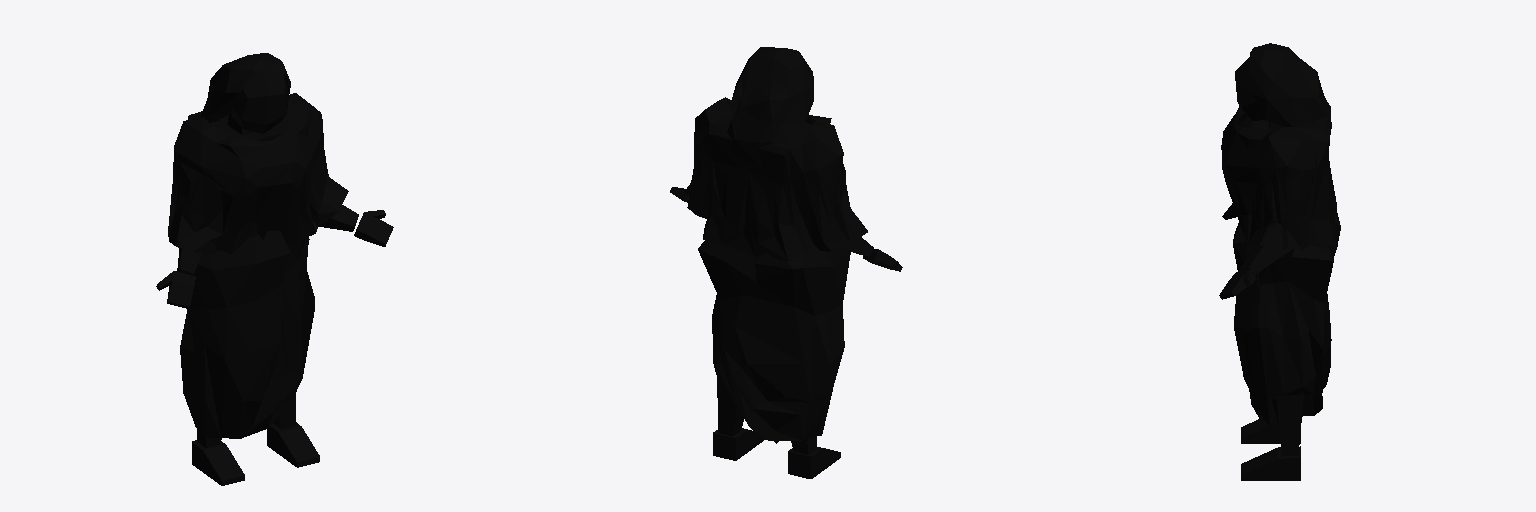
The model's file is Statue6.obj.
3 views of the same model, side by side, from view 1: azimuth 30°, elevation 25°; view 2: azimuth 150°, elevation 25°; view 3: azimuth 270°, elevation 25° (orthographic).
Visible parts, largest first — view 1: Statue6_Cube.043; view 2: Statue6_Cube.043; view 3: Statue6_Cube.043.
Part boxes in pixels (x1,y1,x2,y2): Statue6_Cube.043: (156,53,393,485); Statue6_Cube.043: (670,47,902,478); Statue6_Cube.043: (1219,43,1340,480).
Bounding box in the file's own units: 1.07 × 1.81 × 0.4954.